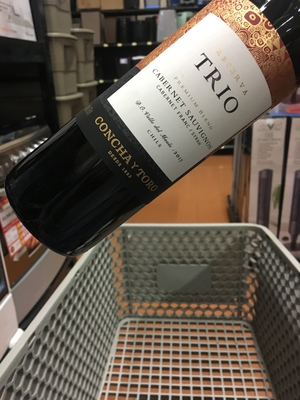trio cabernet sauvignon: (61, 1, 296, 202)
